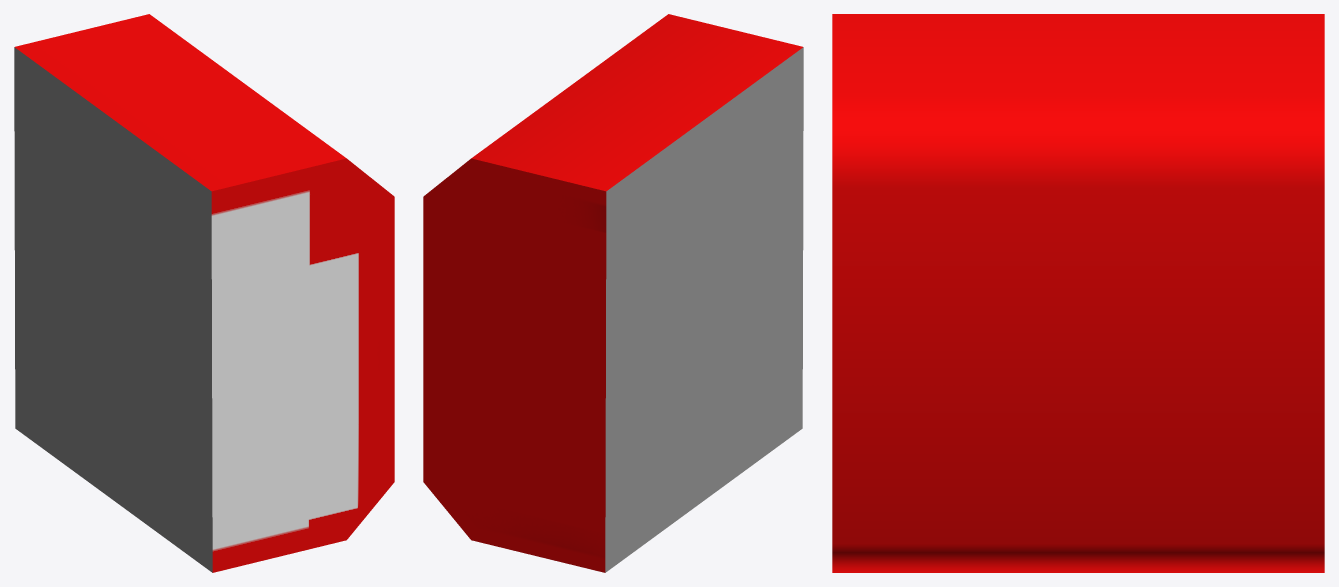
File: gold_cube_halved_uv2.fbx
3 renders of one model, left to right at view 1: azimuth 30°, elevation 25°; view 2: azimuth 150°, elevation 25°; view 3: azimuth 270°, elevation 25°, orthographic. The views are drawn at different scales.
Parts seen in each view (by area): view 1: polySurface2; view 2: polySurface2; view 3: polySurface2.
Boxes of the visible parts, x1=… form: polySurface2: x1=14, y1=14, x2=394, y2=572; polySurface2: x1=423, y1=14, x2=803, y2=572; polySurface2: x1=832, y1=14, x2=1324, y2=572.
Bounding box in the file's own units: 4.82 × 9.6 × 8.99.
2 materials, 1 textured.
